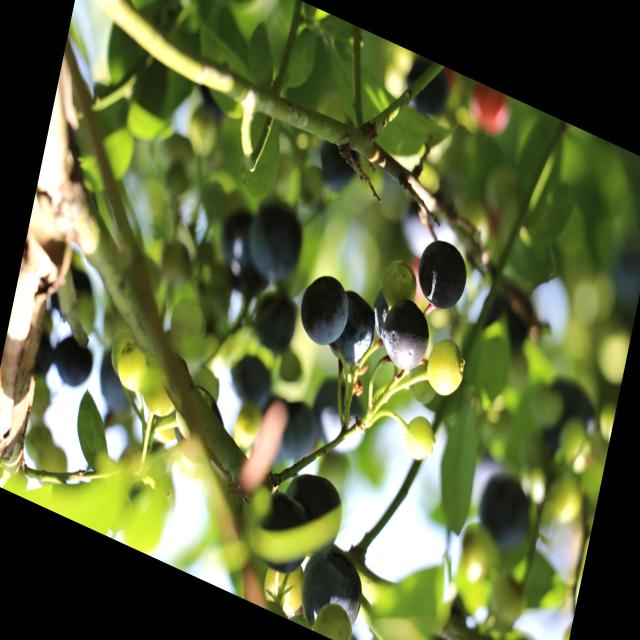blueberry: (294, 538, 371, 640), (277, 461, 347, 563), (248, 483, 316, 585), (245, 196, 311, 294), (471, 462, 539, 557), (308, 369, 374, 464), (295, 260, 356, 358), (410, 229, 474, 322), (326, 284, 384, 379), (376, 292, 434, 381), (90, 344, 150, 429), (246, 286, 306, 369), (222, 342, 279, 420), (398, 54, 452, 128), (308, 136, 363, 207), (273, 393, 323, 469), (47, 328, 98, 398), (46, 262, 94, 329), (367, 282, 399, 346)
blueberry-unripe: (419, 326, 472, 404), (138, 353, 184, 426), (114, 337, 150, 394), (402, 414, 436, 466)
